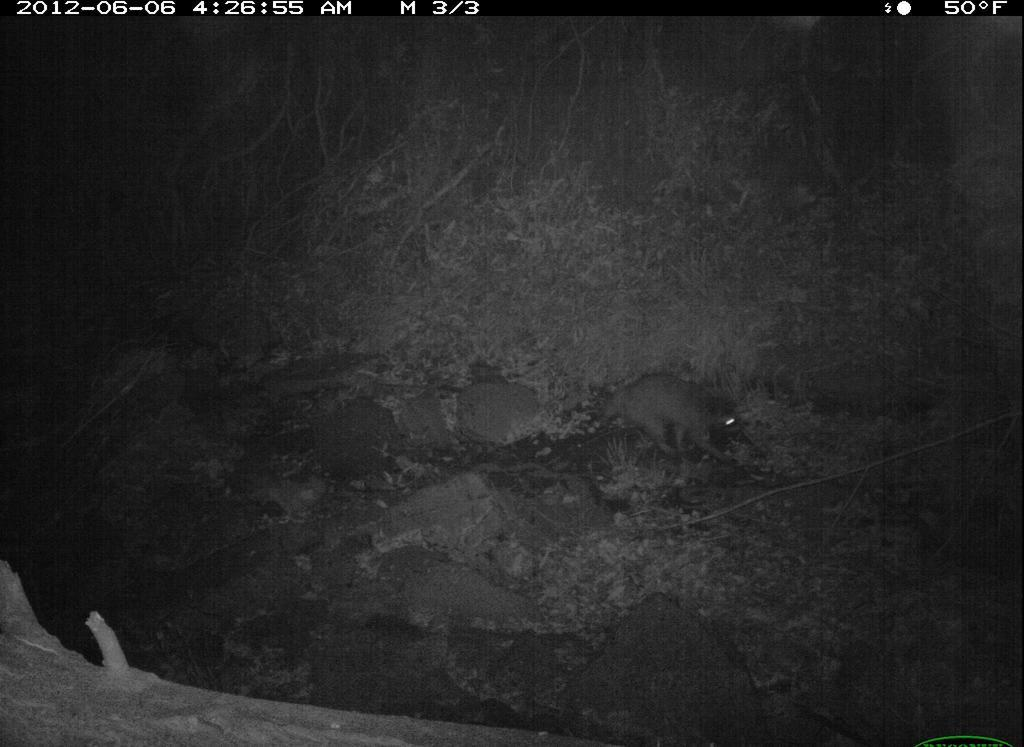raccoon: (593, 350, 762, 473)
